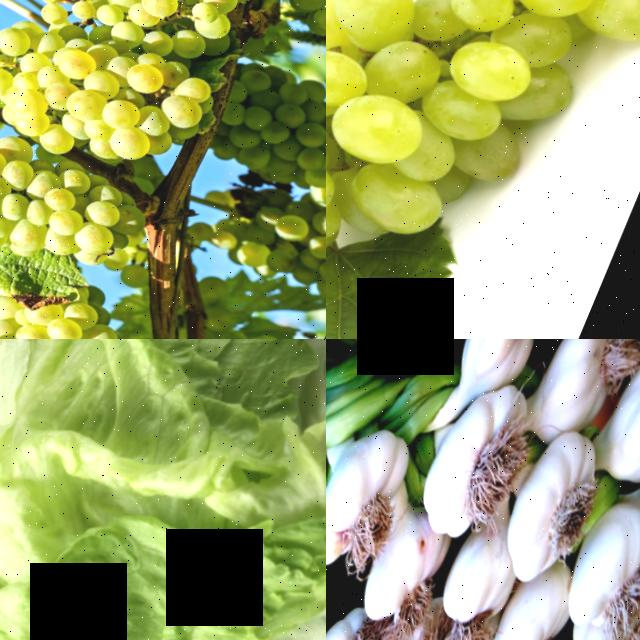garlic: (403, 391, 536, 565), (490, 433, 615, 605), (326, 421, 421, 594), (521, 339, 640, 457), (552, 498, 640, 640), (442, 339, 558, 419), (587, 353, 640, 510), (474, 563, 581, 640), (357, 608, 461, 640)
grapes: (326, 0, 640, 338), (0, 0, 217, 220), (0, 45, 143, 337), (201, 58, 326, 251), (49, 0, 251, 103), (209, 174, 326, 331), (0, 276, 126, 339)
lettuce: (0, 339, 326, 640)
